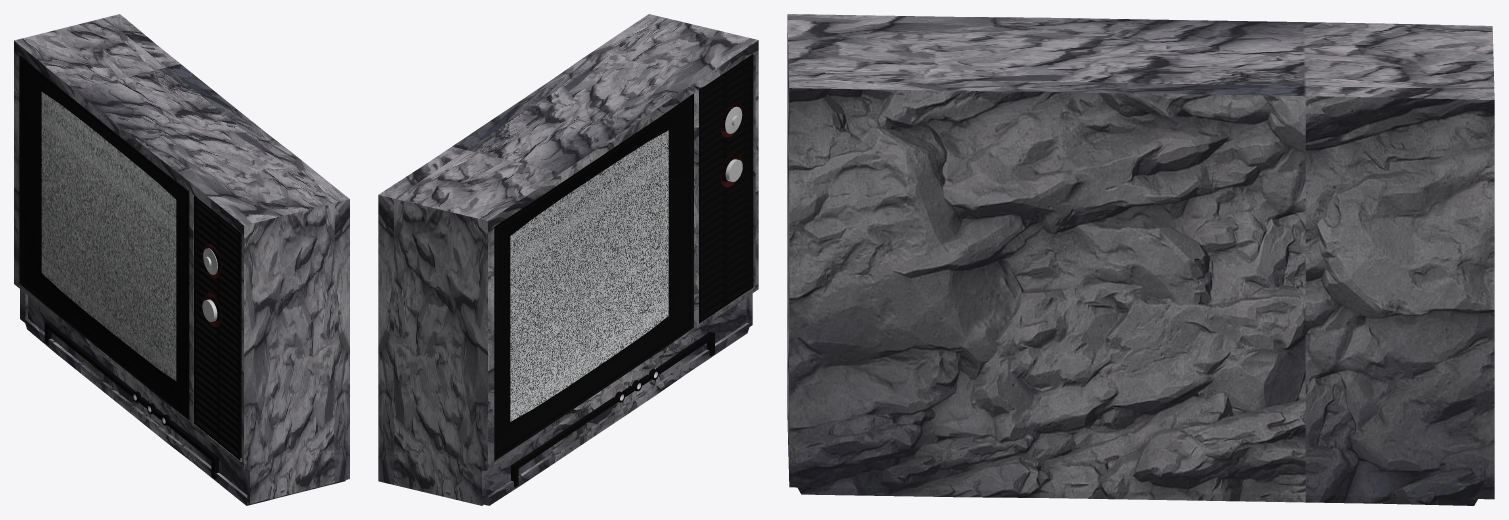
The picture shows the model from 3 angles, left to right: view 1: azimuth 30°, elevation 25°; view 2: azimuth 150°, elevation 25°; view 3: azimuth 270°, elevation 25°; orthographic projection. The views are drawn at different scales.
Parts seen in each view (by area): view 1: TV1:Mesh; view 2: TV1:Mesh; view 3: TV1:Mesh.
Boxes of the visible parts, x1,y1,x2,y2 form: TV1:Mesh: (14,14,349,505); TV1:Mesh: (378,14,758,505); TV1:Mesh: (787,14,1494,505).
Bounding box in the file's own units: 0.3606 × 0.7433 × 1.17.
6 materials, 3 textured.
